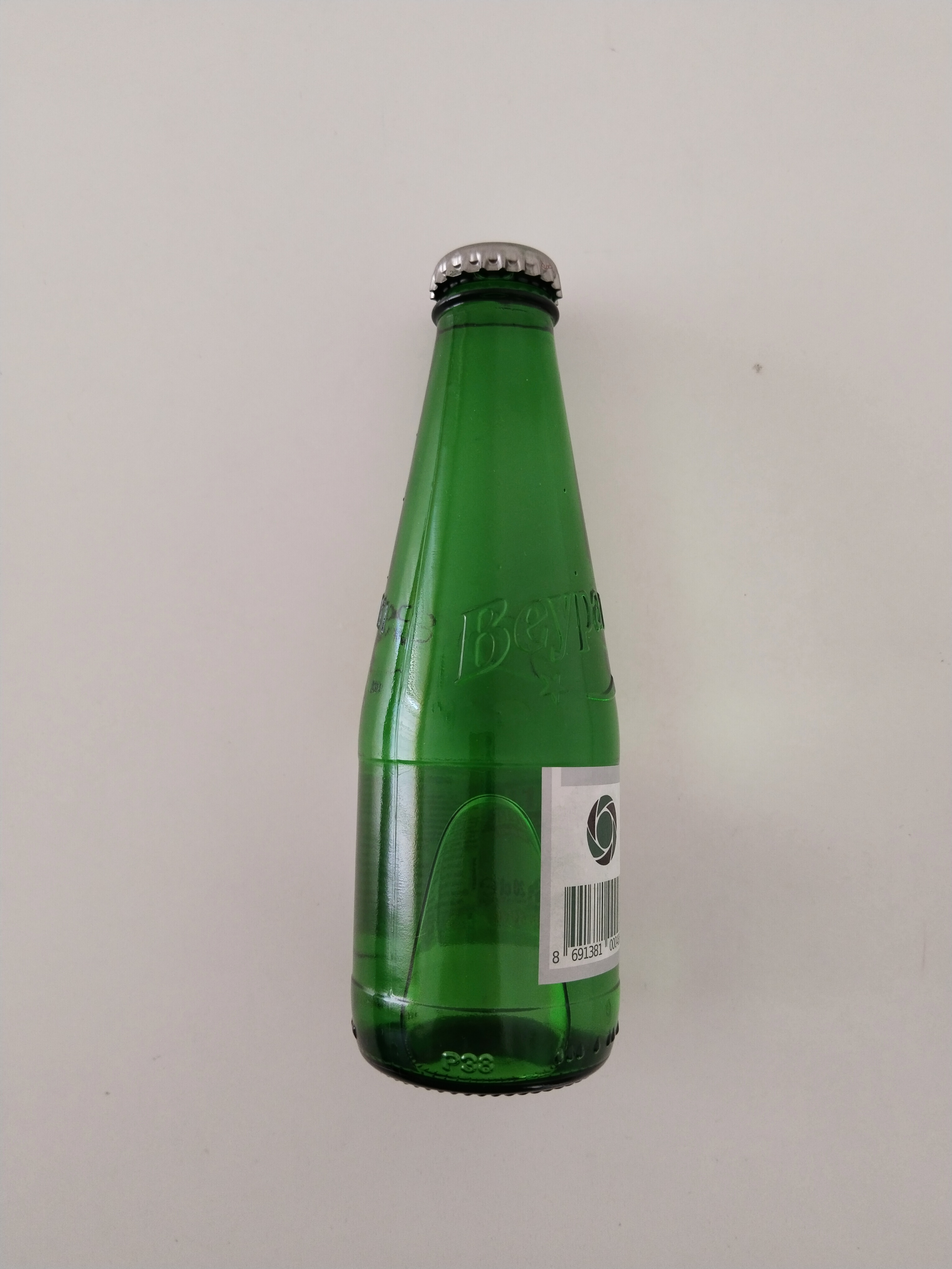beypazari_maden_suyu: (354, 242, 619, 1095)
